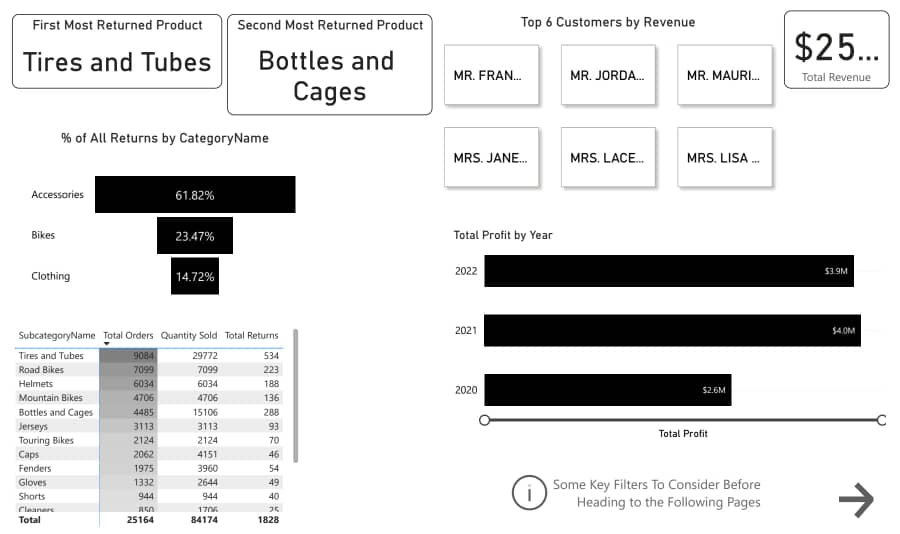

This screenshot's page, from the dashboard's own definition file:
{"tool":"powerbi","page":{"name":"Key Features","canvas":[1280,750],"ordinal":0},"visuals":[{"type":"funnel","fields":{"Category":["Product Categories Lookup.CategoryName"],"Y":["Calculated Measure.% of All Returns"]},"box":[40.3,179.7,389.7,277.2],"z":0},{"type":"clusteredBarChart","fields":{"Category":["Calendar Lookup.Year"],"Y":["Calculated Measure.Total Profit"]},"box":[640,319.2,619.8,305.7],"z":1000},{"type":"pivotTable","fields":{"Rows":["Product Subcategories Lookup.SubcategoryName"],"Values":["Calculated Measure.Total Orders","Calculated Measure.Quantity Sold","Calculated Measure.Total Returns"]},"box":[16.8,456.9,413.2,292.3],"z":2000},{"type":"card","title":"First Most Returned Product","fields":{"Values":["Min(Product Subcategories Lookup.SubcategoryName)"]},"box":[16.8,15.1,299,105.8],"z":3000},{"type":"card","title":"Second Most Returned Product","fields":{"Values":["Min(Product Subcategories Lookup.SubcategoryName)"]},"box":[322.5,15.1,292.3,144.5],"z":4000},{"type":"advancedSlicerVisual","title":"Top 6 Customers by Revenue","fields":{"Values":["Customer Lookup.Full Name"]},"box":[614.8,15.1,500.6,263.7],"z":5000},{"type":"card","fields":{"Values":["Calculated Measure.Total Revenue"]},"box":[1115.4,10.1,149.5,110.9],"z":6000},{"type":"actionButton","box":[712.2,655.1,383,82.3],"z":7000},{"type":"actionButton","box":[1185.9,677,87.3,60.5],"z":8000}]}

Visuals, with their boxes in screenshot pixels (x1, y1, x2, y2), scaled from the page's 1280x750 canvas onto the 900x534 screenshot:
funnel - Product Categories Lookup.CategoryName x Calculated Measure.% of All Returns: left=28, top=128, right=302, bottom=325
clusteredBarChart - Calendar Lookup.Year x Calculated Measure.Total Profit: left=450, top=227, right=886, bottom=445
pivotTable - Product Subcategories Lookup.SubcategoryName x Calculated Measure.Total Orders: left=12, top=325, right=302, bottom=533
"First Most Returned Product" card: left=12, top=11, right=222, bottom=86
"Second Most Returned Product" card: left=227, top=11, right=432, bottom=114
"Top 6 Customers by Revenue" advancedSlicerVisual: left=432, top=11, right=784, bottom=199
card - Calculated Measure.Total Revenue: left=784, top=7, right=889, bottom=86
actionButton: left=501, top=466, right=770, bottom=525
actionButton: left=834, top=482, right=895, bottom=525
